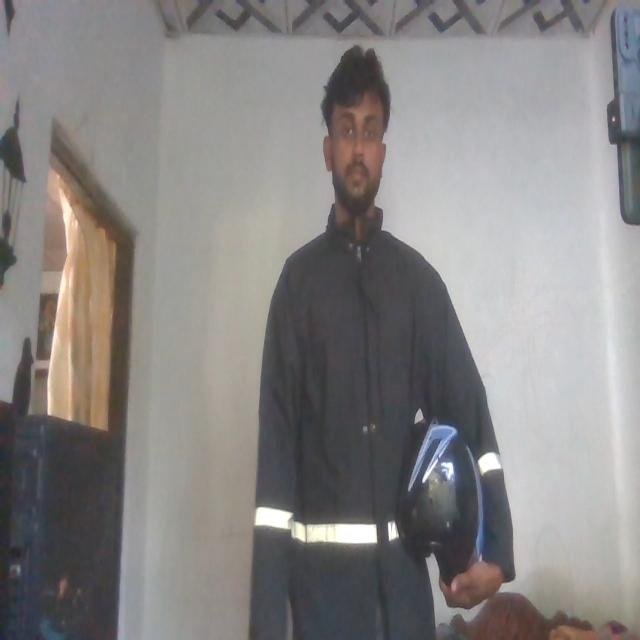Jacket_Wearer: (253, 205, 507, 640)
Person: (249, 44, 514, 640)
